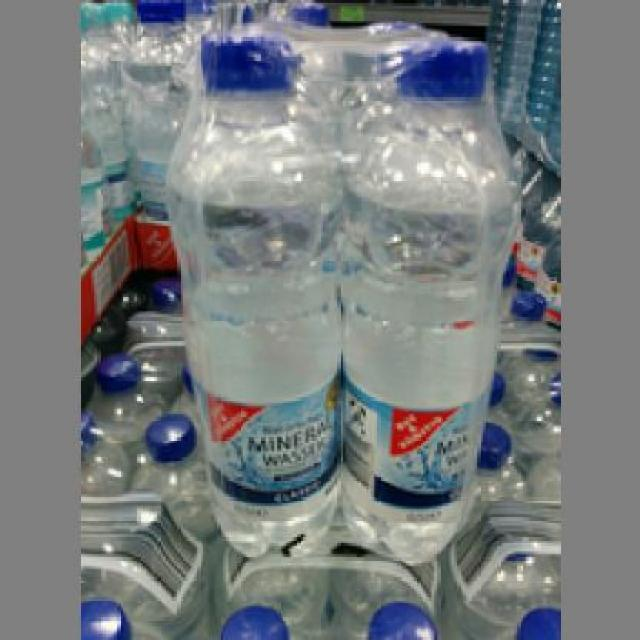Water: (326, 31, 508, 566), (174, 32, 343, 554)
